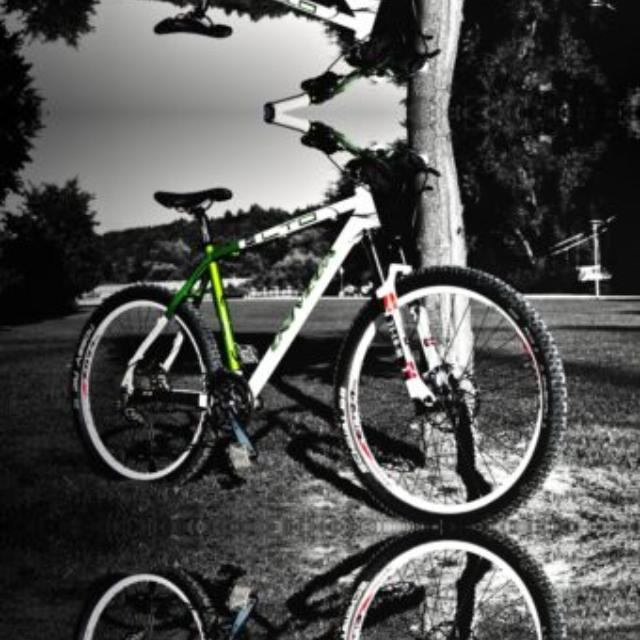obstacle: (39, 112, 625, 524), (39, 0, 625, 112), (39, 528, 625, 640)
